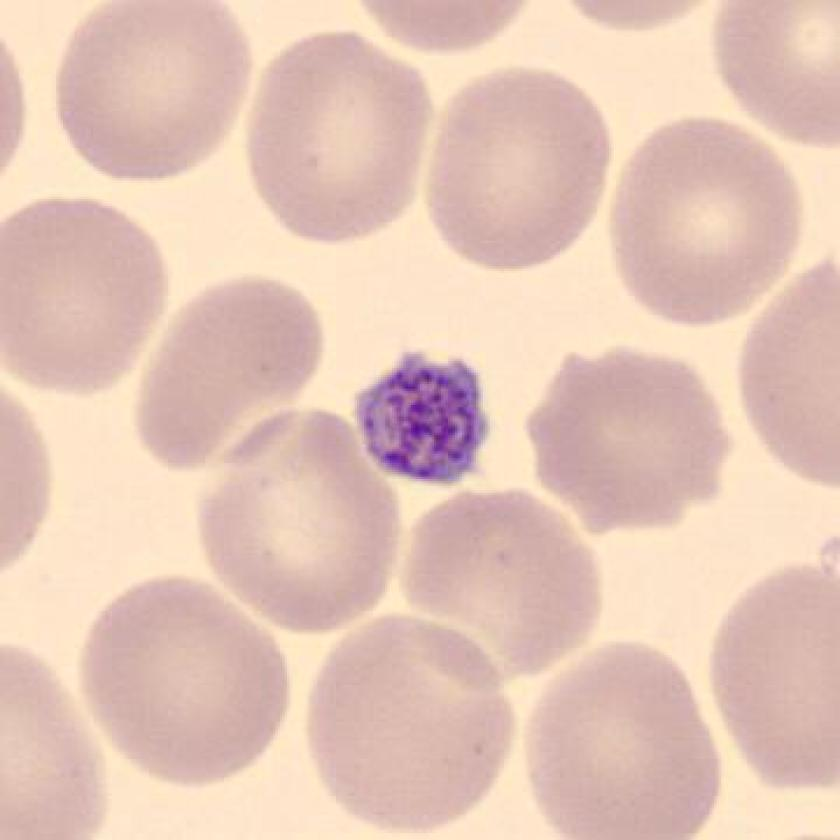platelets: (351, 346, 493, 496)
